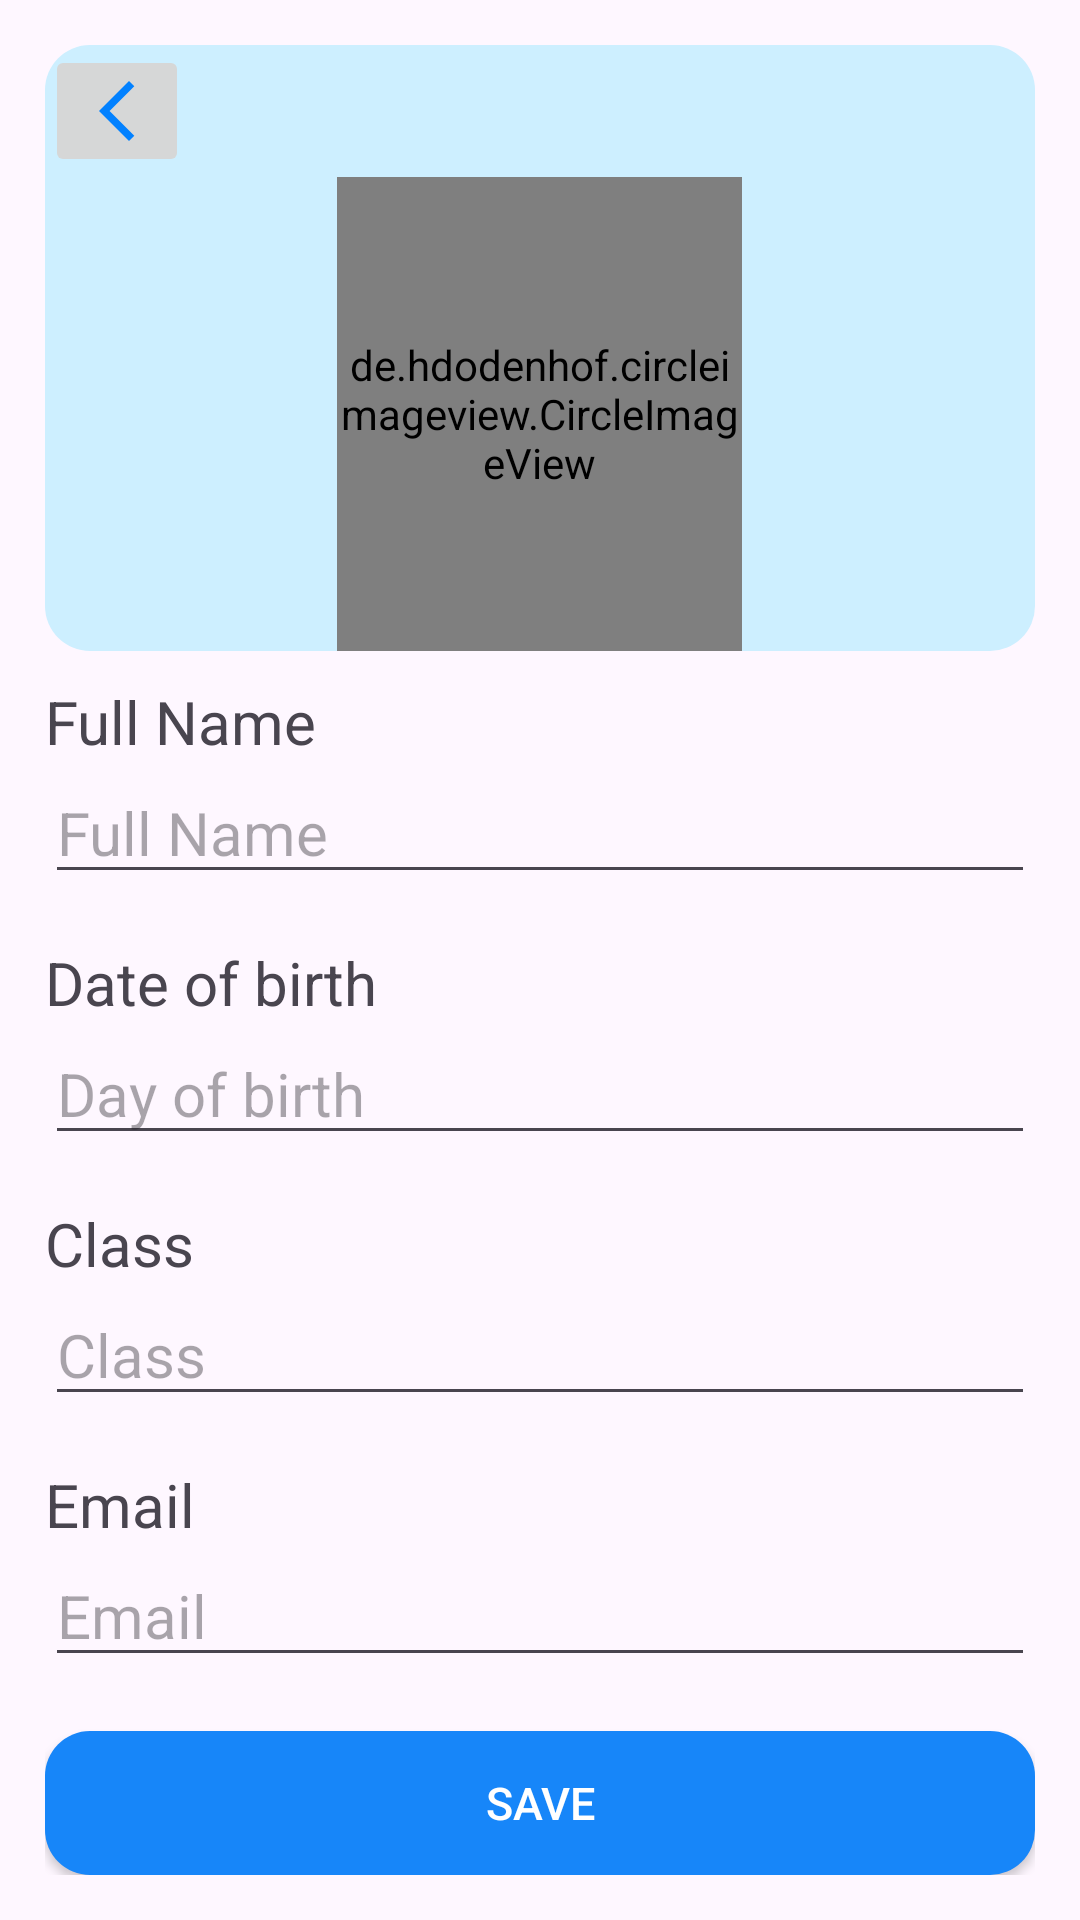

Icon click points for this 1080 x 1920 phone screenshot, format (x=x, y=y):
back: (x=117, y=111)
